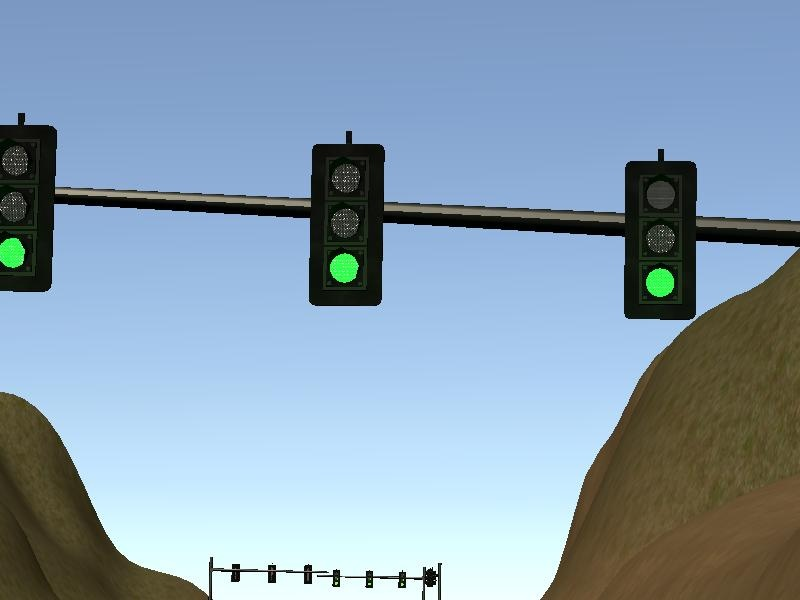green: (303, 138, 386, 312), (619, 159, 700, 326), (1, 123, 63, 299)
